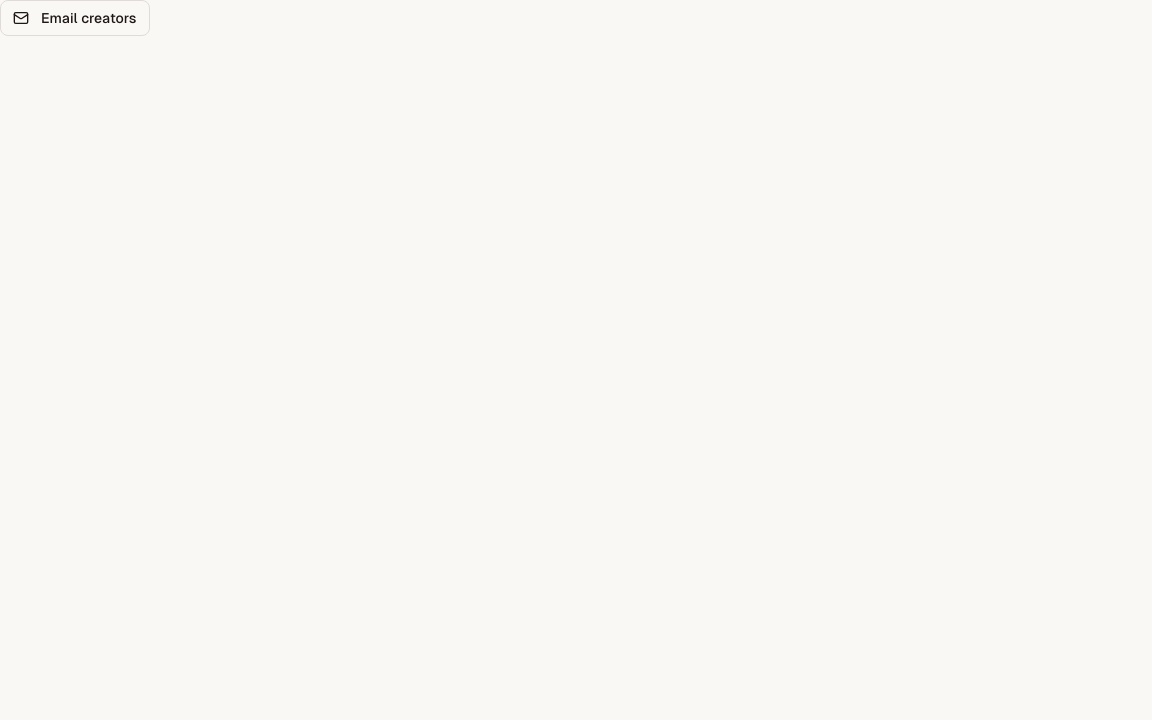
it: the brief email for a campaign › says there's no agreement to sign when the campaign has none
Later steps or results of the test are not shown.
Step 1. Click the button "Email creators" → {"x": 75, "y": 18}, box [0, 0, 150, 36]
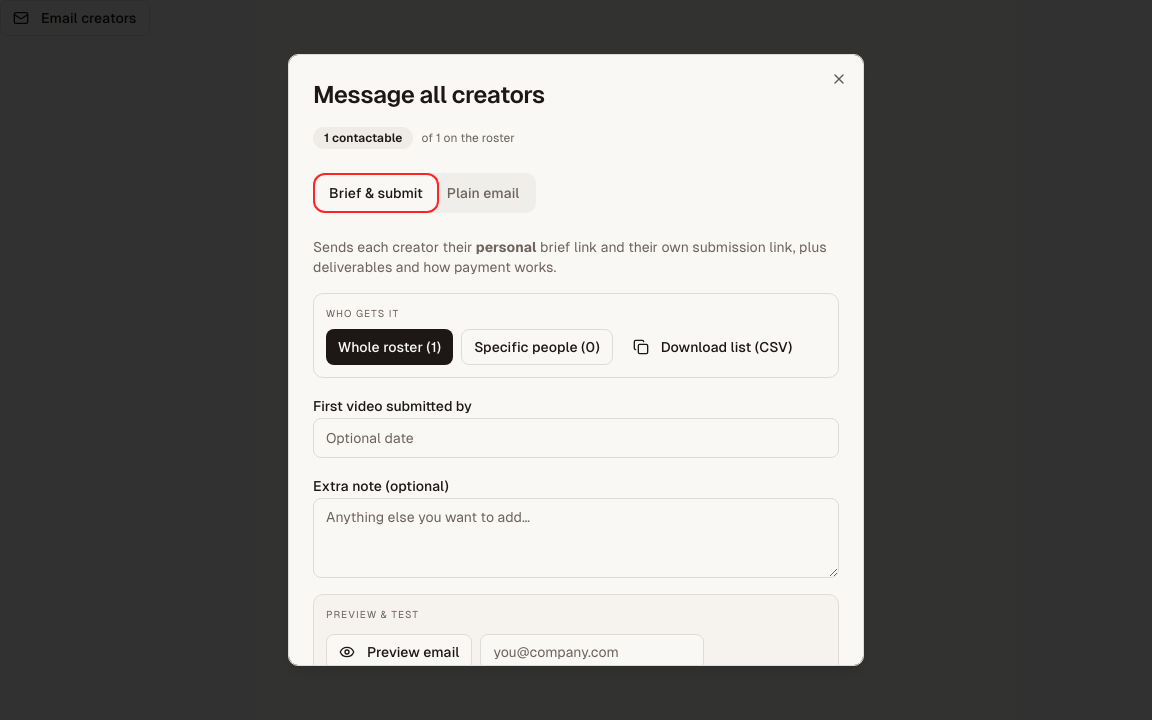
expect the button "Preview email" is shown: met, box [326, 634, 472, 666]
